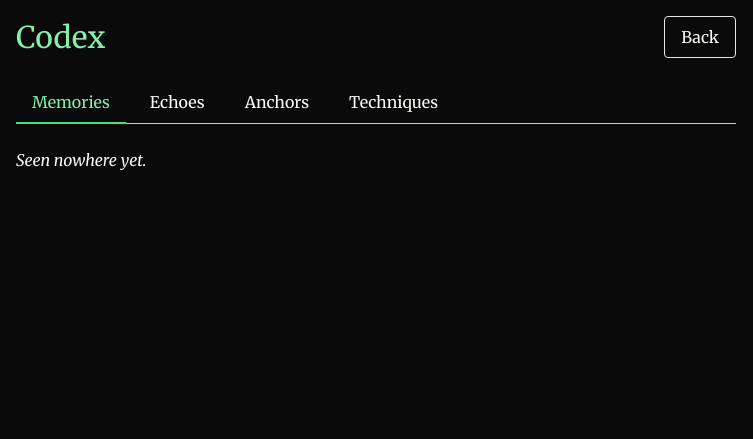
Scenario: Phase 2B-3: CodexScreen Techniques tab › lists each technique with seen / learned distinction
Click the tab "techniques" at [394, 103], box [333,82,454,124]
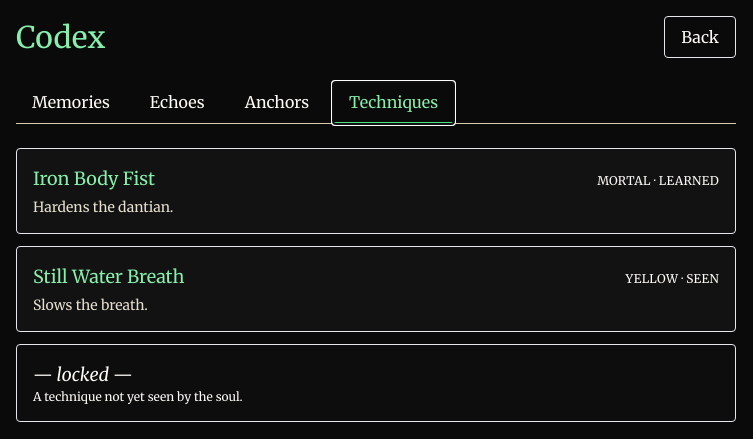
Expected: the text "Iron Body Fist" is shown, [33,165,155,193]
Expected: the text "learned" is shown, [659,173,719,188]
Expected: the text "Still Water Breath" is shown, [33,263,184,291]
